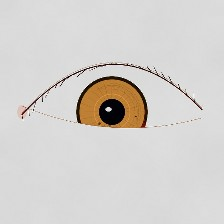hemorrhage_spot: (76, 90, 158, 155)
